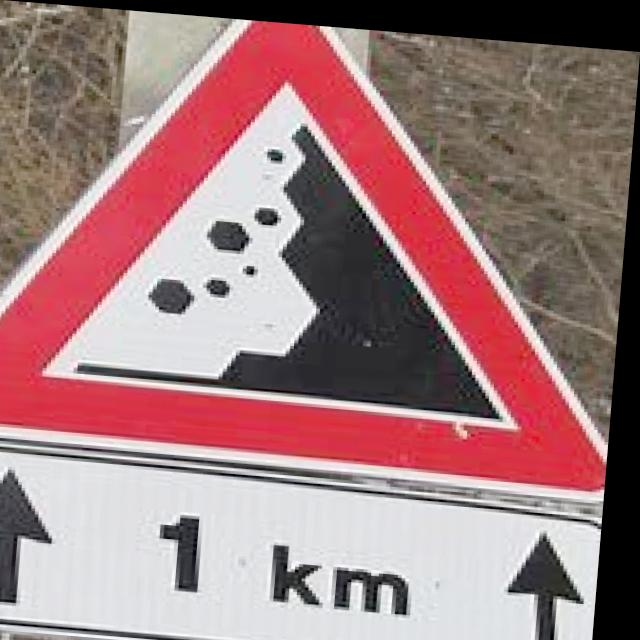FALLING_ROCKS: (0, 0, 640, 487)
